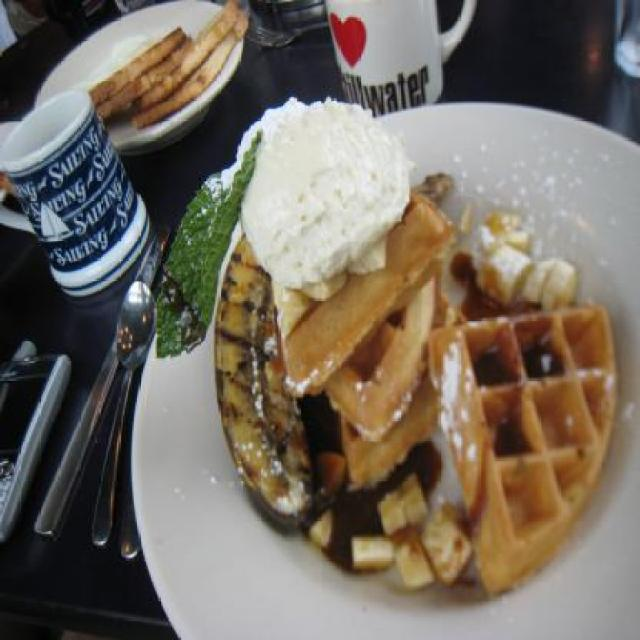Waffle: (428, 306, 604, 596), (270, 184, 458, 398), (336, 288, 470, 497), (326, 272, 440, 443)
